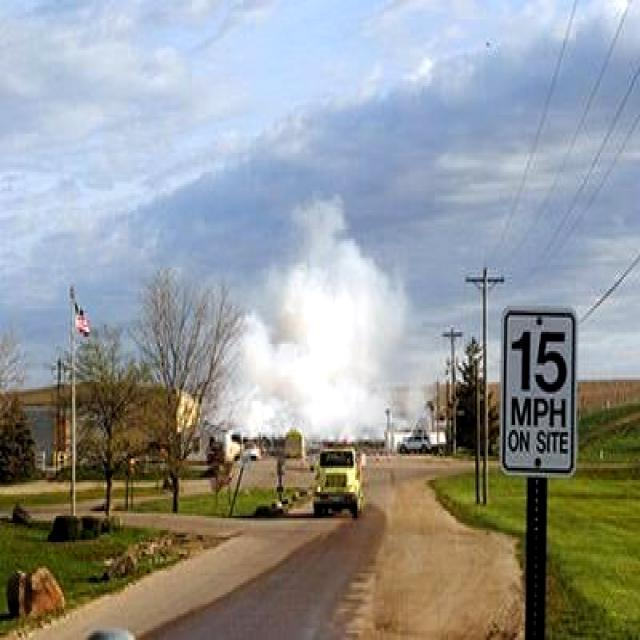Smoke: (199, 198, 449, 444)
